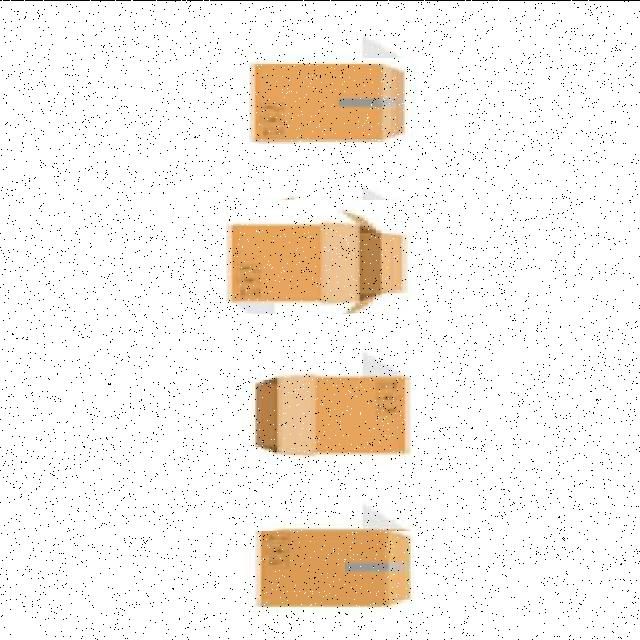defect: (226, 198, 411, 312), (249, 369, 409, 458)
normal: (252, 530, 414, 616), (249, 57, 411, 143)
